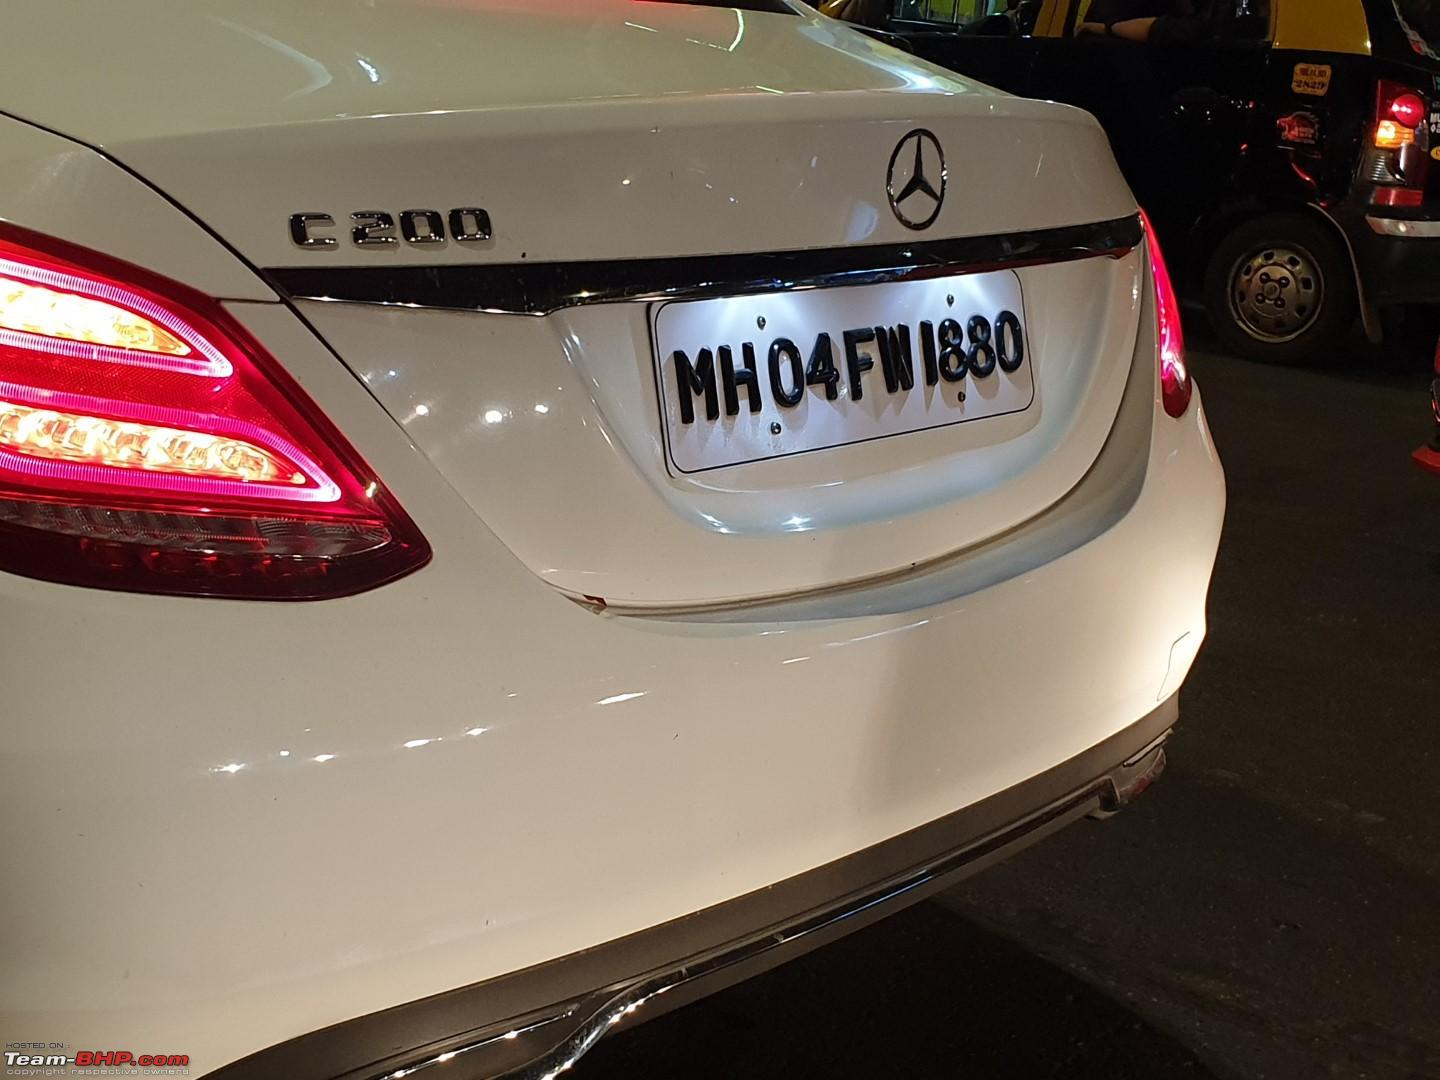licence-plate: (633, 289, 1065, 444)
